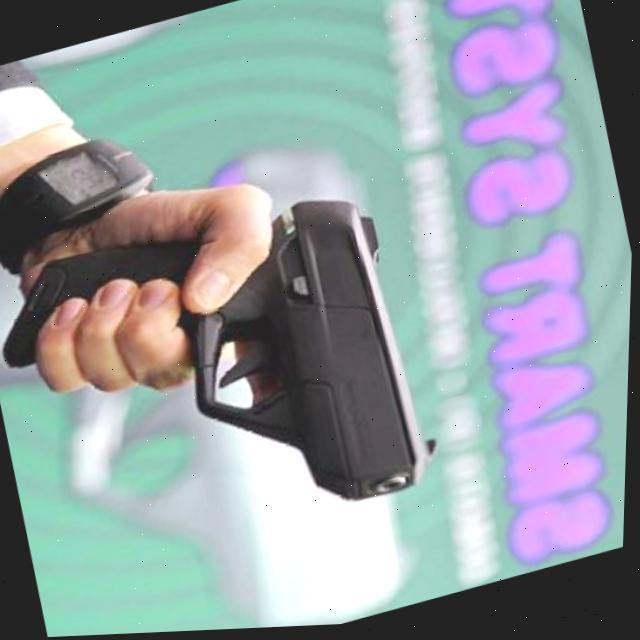gun: (0, 164, 467, 588)
